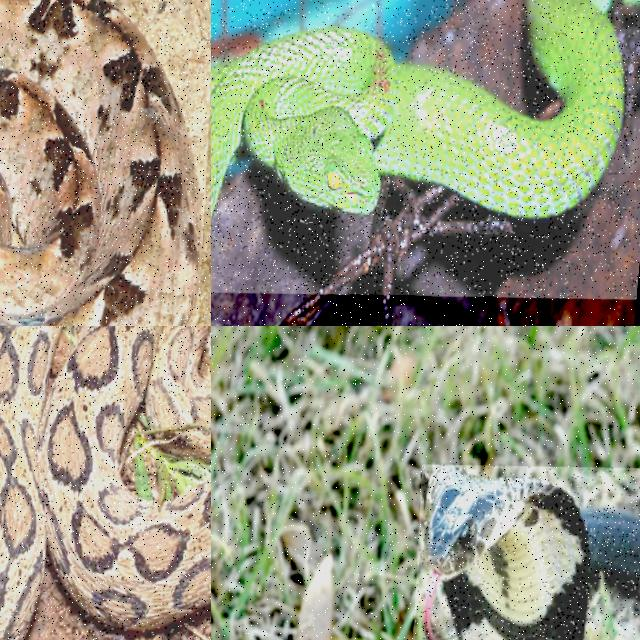Calloselasma rhodostoma: (0, 0, 201, 325)
Daboia siamensis: (0, 326, 210, 639)
Naja siamensis: (421, 465, 639, 639)
Trimeresurus macrops: (211, 0, 622, 216)
snake: (211, 0, 622, 216), (0, 326, 210, 639), (0, 0, 201, 325), (421, 465, 639, 639)
